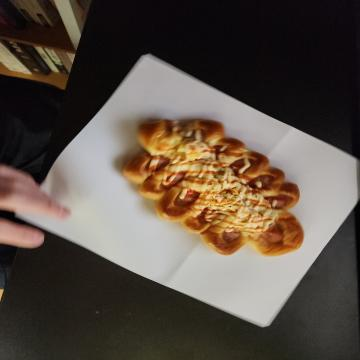pizza_bread: (121, 56, 259, 234)
